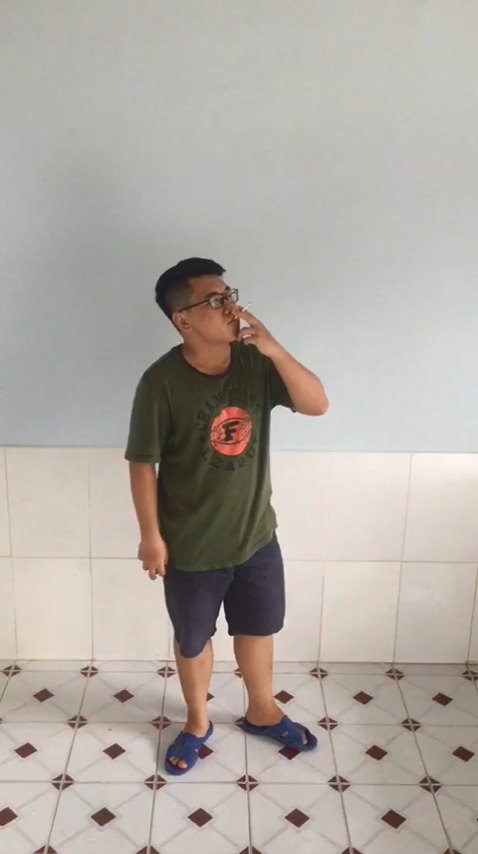person: (127, 246, 346, 797)
